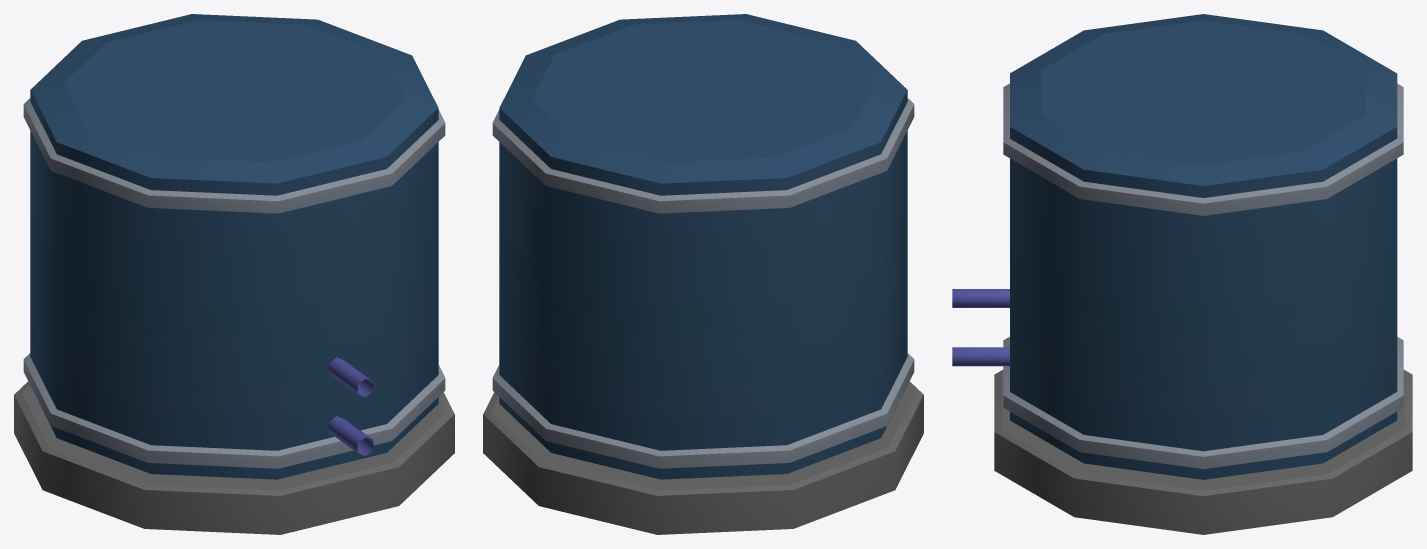
The model's file is GasTank_2_D.fbx.
3 views of the same model, side by side, from view 1: azimuth 30°, elevation 25°; view 2: azimuth 150°, elevation 25°; view 3: azimuth 270°, elevation 25° (orthographic).
Parts seen in each view (by area): view 1: GasTank_2_D; view 2: GasTank_2_D; view 3: GasTank_2_D.
Boxes of the visible parts, x1,y1,x2,y2 form: GasTank_2_D: (14, 14, 454, 534); GasTank_2_D: (483, 14, 923, 534); GasTank_2_D: (952, 14, 1412, 534).
Bounding box in the file's own units: 900 × 790 × 942.
